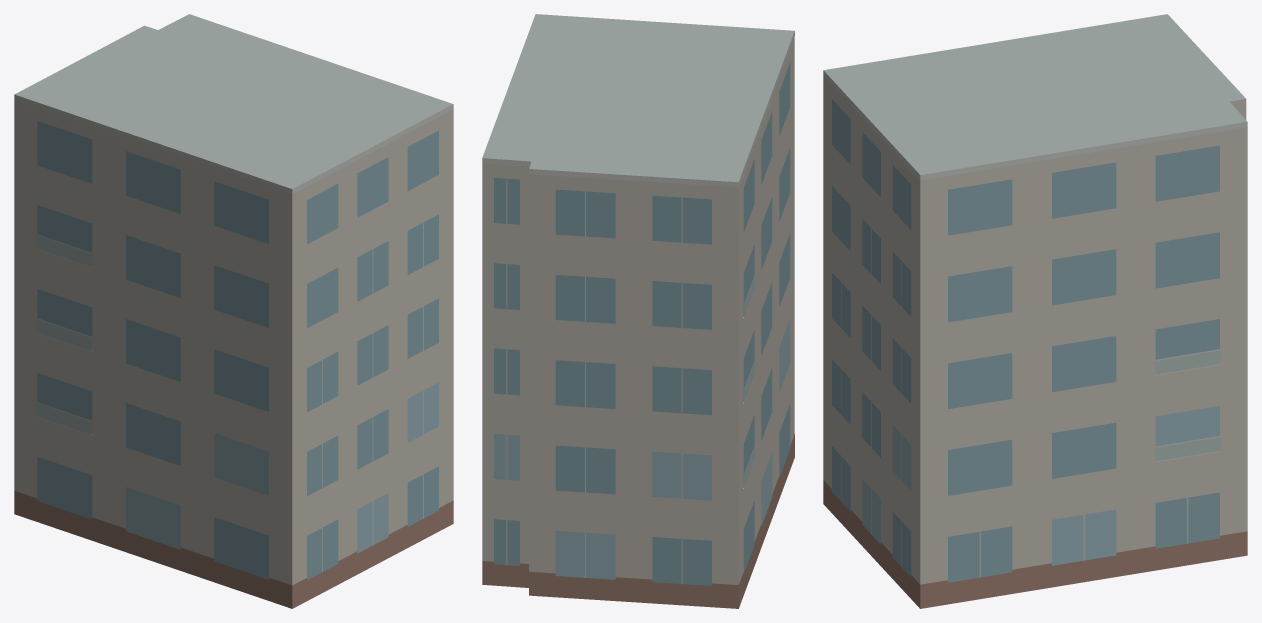
File: survey-upis-33011904.glb
The picture shows the model from 3 angles, left to right: view 1: azimuth 30°, elevation 25°; view 2: azimuth 150°, elevation 25°; view 3: azimuth 270°, elevation 25°; orthographic projection. The views are drawn at different scales.
Visible parts, largest first — view 1: survey-upis-33011904.tmp; view 2: survey-upis-33011904.tmp; view 3: survey-upis-33011904.tmp.
Boxes of the visible parts, x1,y1,x2,y2 form: survey-upis-33011904.tmp: (14,14,453,608); survey-upis-33011904.tmp: (482,14,794,608); survey-upis-33011904.tmp: (823,14,1247,608).
Bounding box in the file's own units: 15.9 × 19.95 × 17.69.
